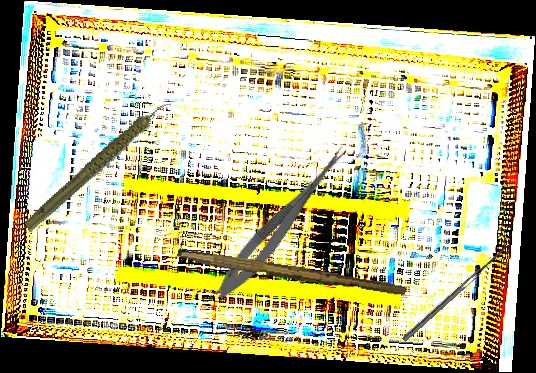Handpiece: (4, 98, 195, 235)
Micro Scissor: (209, 137, 353, 307)
Scalpel Handle: (176, 249, 407, 297)
Spatula Surgical: (397, 236, 514, 343)
